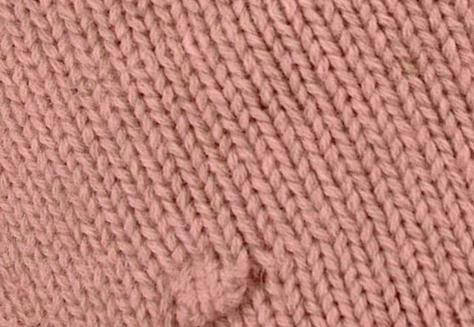knot: (170, 252, 262, 325)
